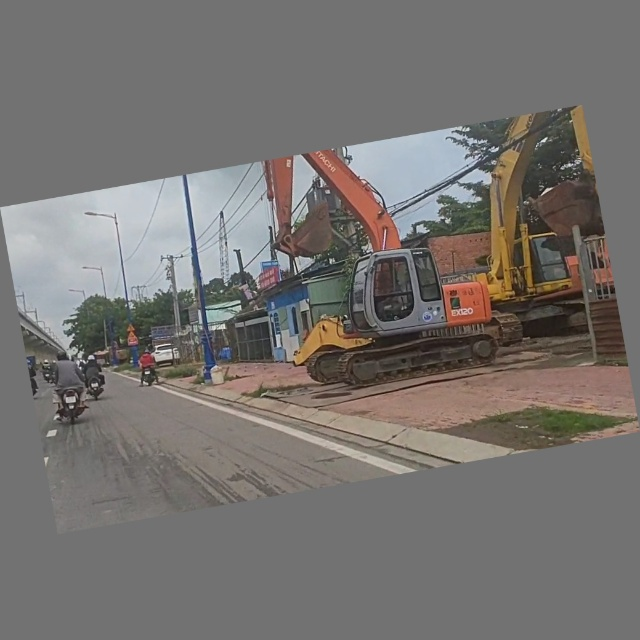W.203c: (126, 323, 136, 333)
W.245a: (126, 331, 138, 340)
